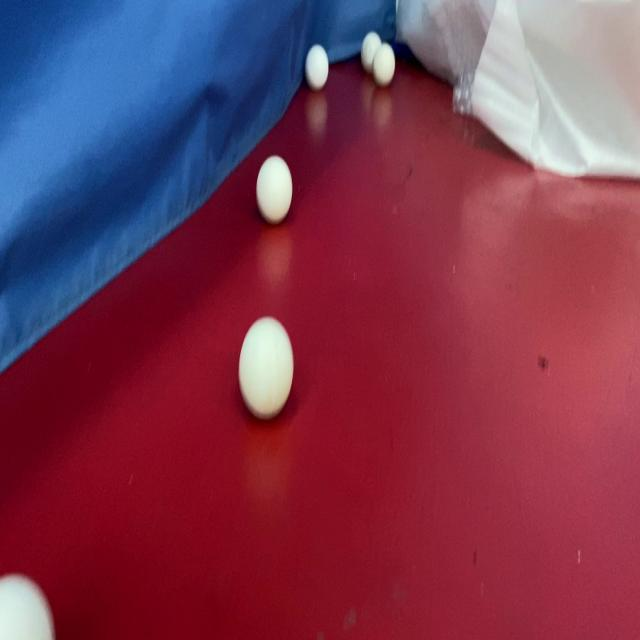ping-pong-ball: (235, 310, 298, 424), (252, 154, 297, 226), (303, 44, 330, 92), (372, 43, 396, 87)
